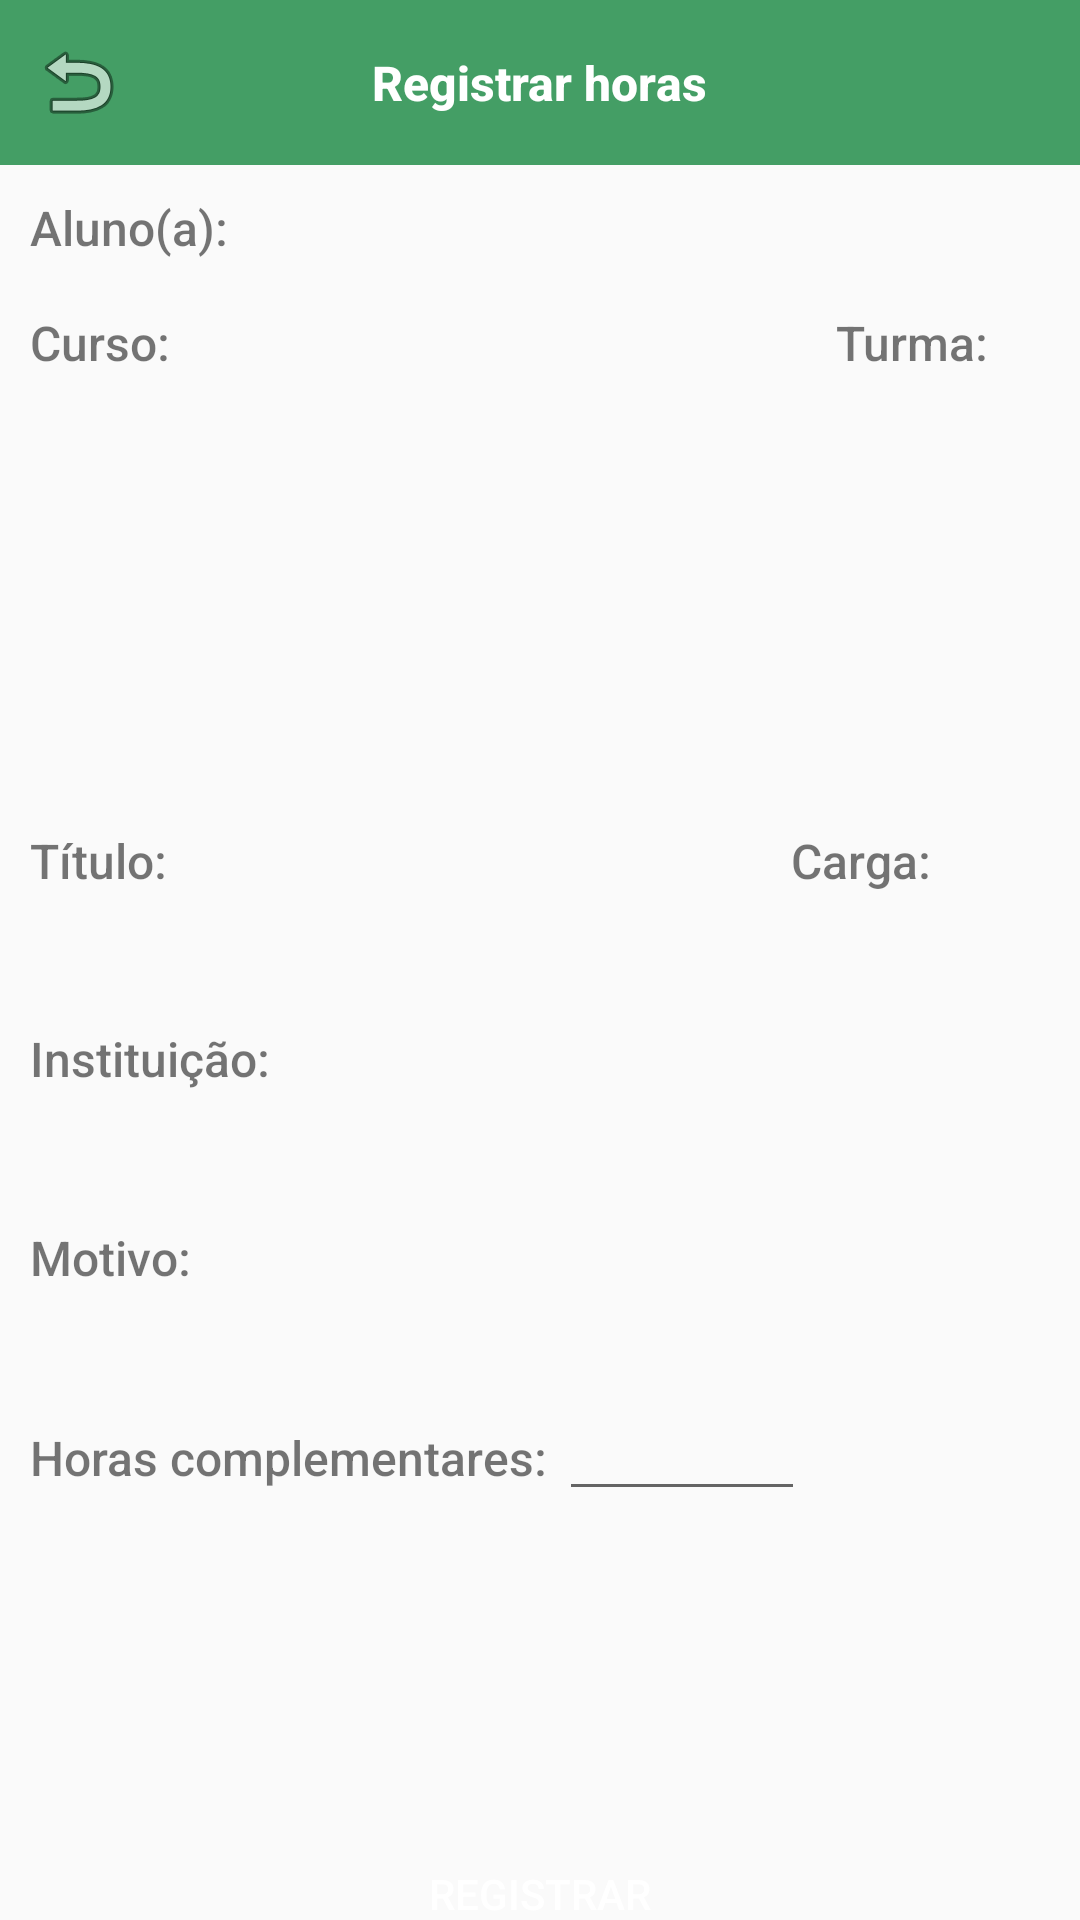

Where to tap for icons on this 1080px×1920px app screen, as (x=x, y=y):
revert: (x=79, y=83)
